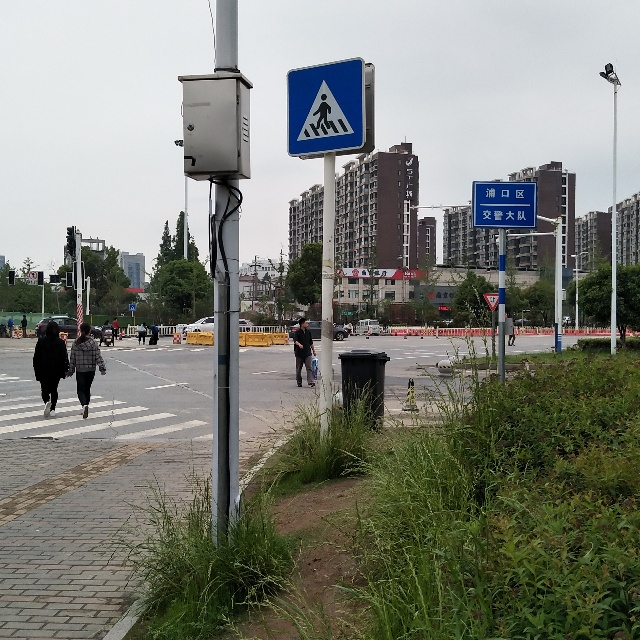crosswalk: (292, 71, 358, 146)
